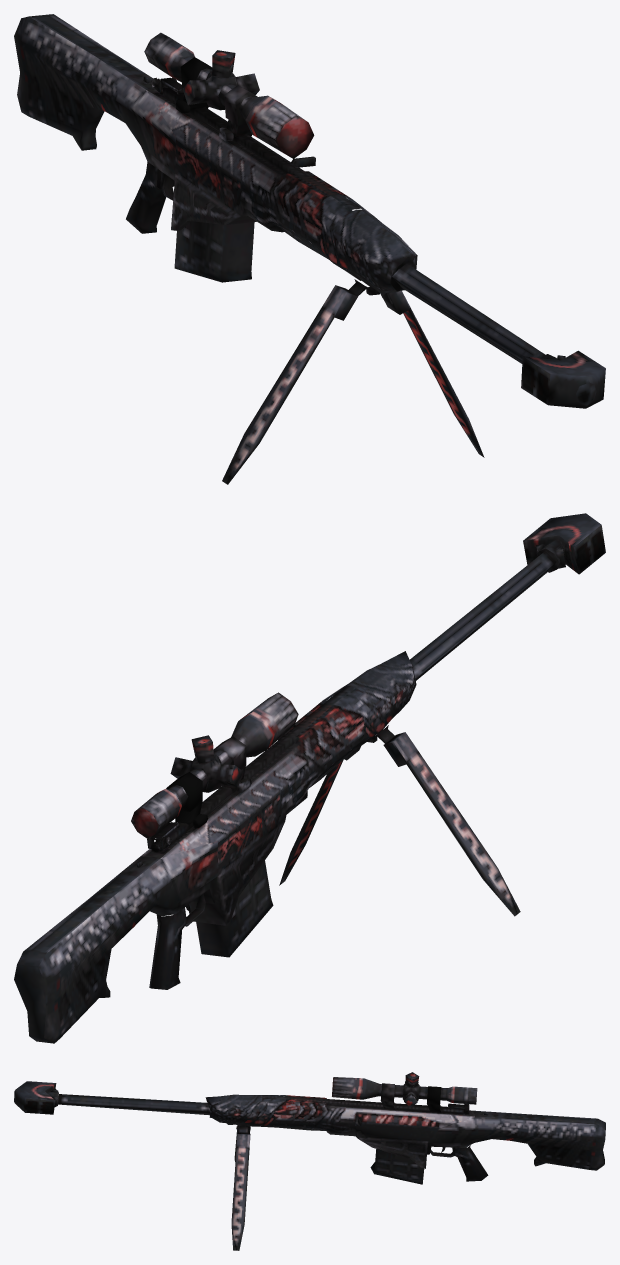
Rendered from m82_static.glb.
3 views of the same model, one above another, from view 1: azimuth 30°, elevation 25°; view 2: azimuth 150°, elevation 25°; view 3: azimuth 270°, elevation 25° (orthographic). The views are drawn at different scales.
Parts seen in each view (by area): view 1: studio__ljk_ak; view 2: studio__ljk_ak; view 3: studio__ljk_ak.
Part boxes in pixels (<box>): studio__ljk_ak: <box>14,14,605,484</box>; studio__ljk_ak: <box>14,513,605,1043</box>; studio__ljk_ak: <box>14,1072,605,1250</box>.
Bounding box in the file's own units: 0.305 × 0.3447 × 1.2.
Materials: 1 (1 with a texture image).
